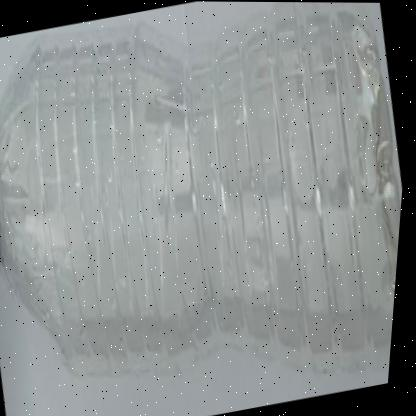open bottle: (1, 25, 151, 407)
